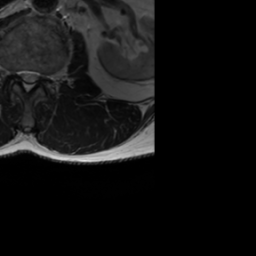CCS_normal: (24, 65, 31, 99)
LFS_severe_stenosis: (40, 67, 47, 85)
LLS_normal: (32, 65, 39, 88)
RFS_stenosis: (9, 64, 17, 82)
RLS_stenosis: (16, 65, 24, 88)
